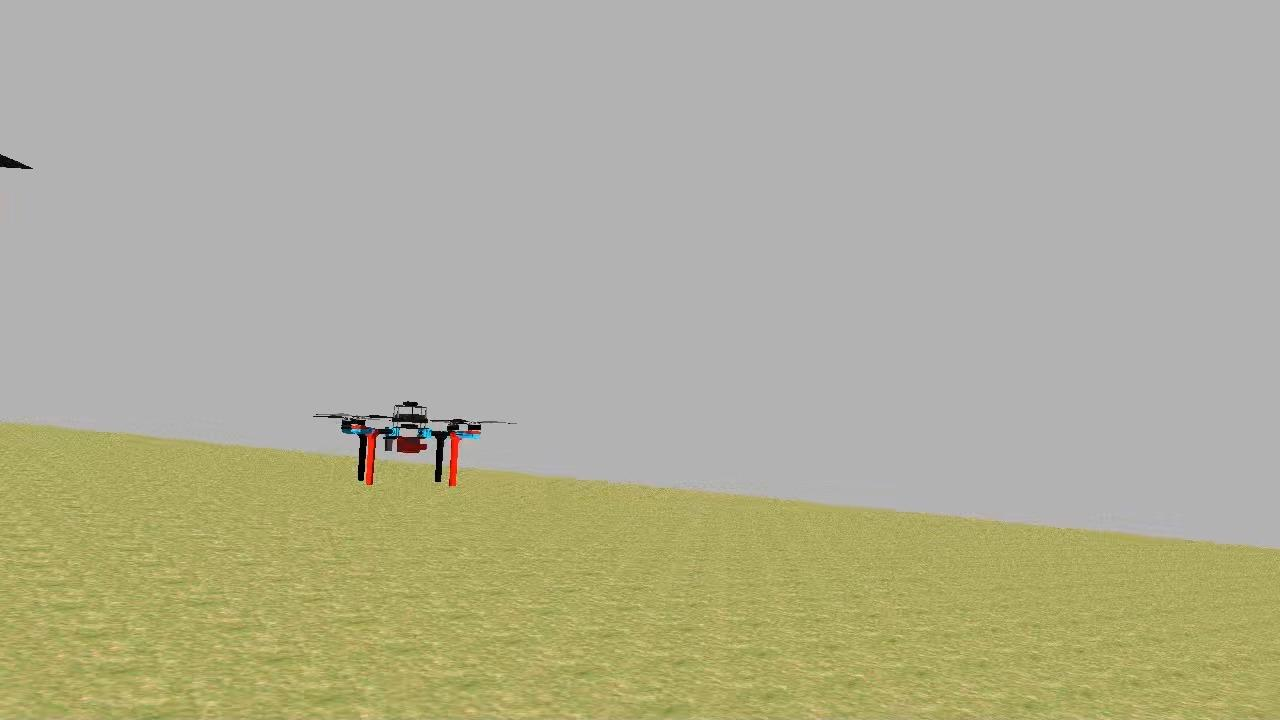UAV: (332, 396, 486, 494)
